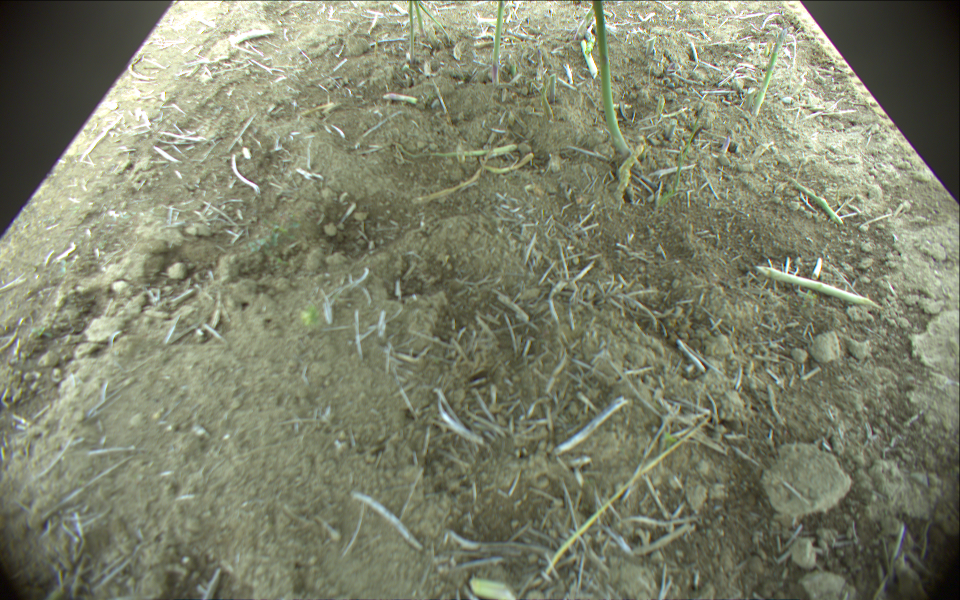aspa: (592, 1, 629, 154), (760, 264, 878, 308), (789, 170, 845, 226), (757, 30, 786, 114), (490, 1, 503, 82), (421, 1, 448, 35), (581, 39, 598, 76), (408, 1, 416, 56), (675, 146, 684, 192), (414, 1, 424, 36), (721, 132, 732, 155)
